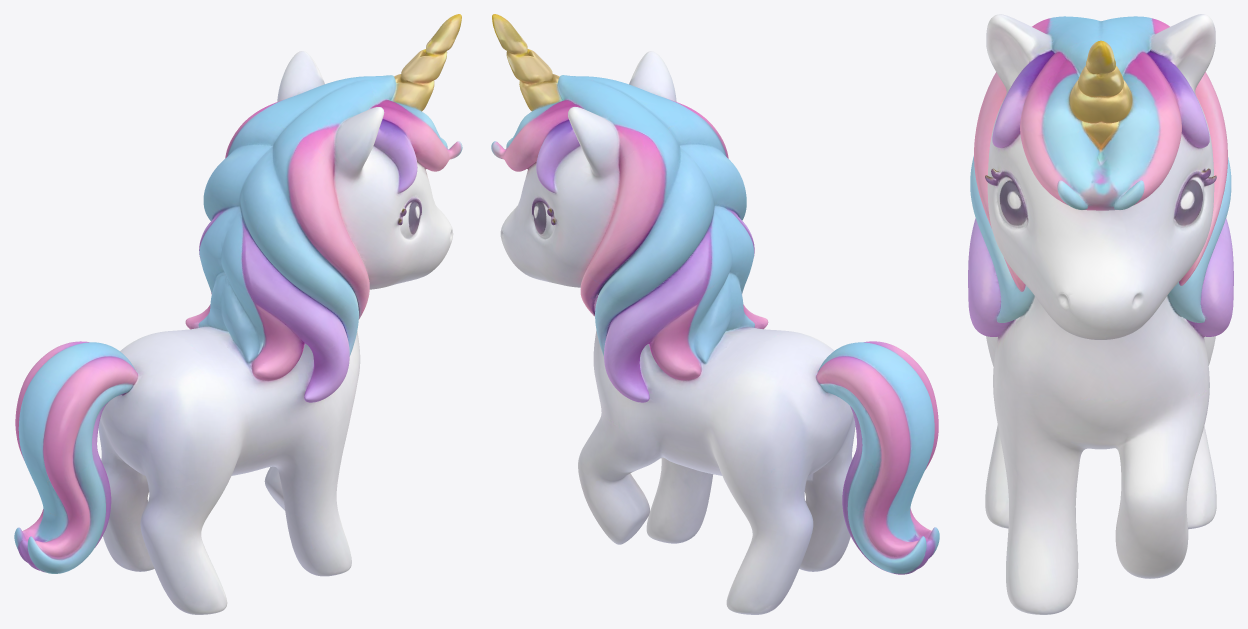
The model's file is Unicorno.glb.
The picture shows the model from 3 angles, left to right: view 1: azimuth 30°, elevation 25°; view 2: azimuth 150°, elevation 25°; view 3: azimuth 270°, elevation 25°; orthographic projection. The views are drawn at different scales.
Parts seen in each view (by area): view 1: 0; view 2: 0; view 3: 0.
Boxes of the visible parts, left/top/right/bottom form: 0: left=14, top=14, right=462, bottom=614; 0: left=491, top=14, right=939, bottom=614; 0: left=968, top=14, right=1233, bottom=614.
Size of the model in its own units: 1.74 by 1.9 by 0.6913.
1 material, 1 textured.
